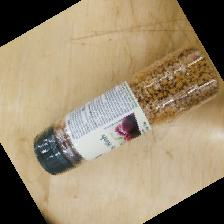TayNinh_green: (31, 45, 221, 177)
